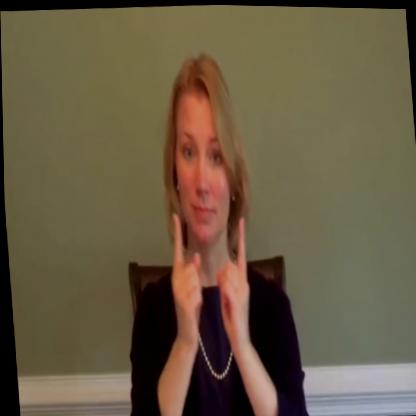NiceToMeetYou: (100, 44, 296, 416)
